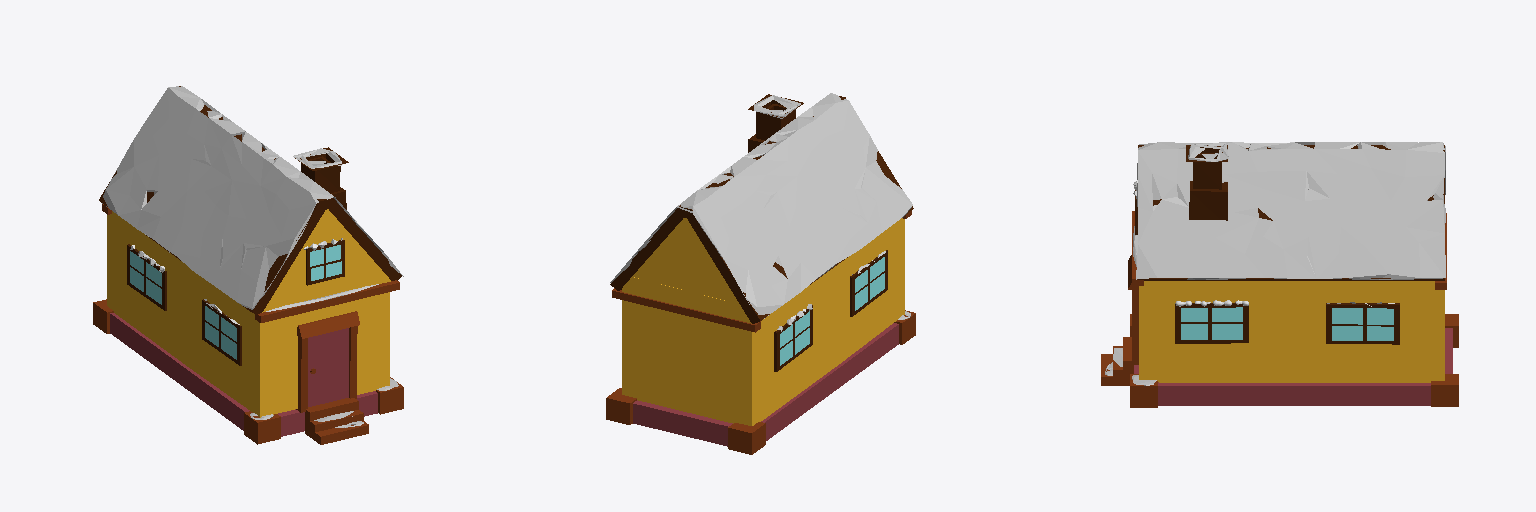
3 renders of one model, left to right at view 1: azimuth 30°, elevation 25°; view 2: azimuth 150°, elevation 25°; view 3: azimuth 270°, elevation 25°, orthographic.
Parts seen in each view (by area): view 1: SnowBall.003, Cube, Cube.004, Cube.007, Cube.001, Cube.006, Plane.001, Plane.002, Plane.005, Cube.009, Cube.014, Cube.011 (+6 smaller); view 2: SnowBall.003, Cube, Cube.004, Cube.007, Cube.006, Plane.001, Plane.002, Cube.008, Cube.014, Cube.016, Cube.017; view 3: SnowBall.003, Cube, Cube.004, Plane.004, Plane.003, Cube.014, Cube.006, Cube.017, Cube.010, SnowBall.006, Cube.012.
Part boxes in pixels (x1,y1,x2,y2): SnowBall.003: (102,86,403,309); Cube: (107,211,389,417); Cube.004: (110,313,377,436); Cube.007: (262,209,390,312); Cube.001: (308,328,348,406); Cube.006: (99,86,401,314); Plane.001: (202,299,241,365); Plane.002: (127,244,166,310); Plane.005: (306,240,344,285); Cube.009: (255,280,399,322); Cube.014: (295,147,348,209); Cube.011: (297,311,359,338); SnowBall.003: (610,93,912,318); Cube: (622,218,904,425); Cube.004: (633,323,898,446); Cube.007: (632,218,738,303); Cube.006: (610,96,913,323); Plane.001: (850,250,887,316); Plane.002: (774,305,812,371); Cube.008: (612,288,760,332); Cube.014: (748,94,803,152); Cube.016: (728,422,765,454); Cube.017: (606,388,636,424); SnowBall.003: (1136,142,1445,279); Cube: (1139,281,1444,382); Cube.004: (1134,328,1452,405); Plane.004: (1326,303,1399,344); Plane.003: (1175,303,1248,343); Cube.014: (1186,145,1227,220); Cube.006: (1138,145,1444,280); Cube.017: (1431,374,1458,406); Cube.010: (1130,374,1157,407); SnowBall.006: (1188,143,1228,182); Cube.012: (1132,290,1138,364).
Bounding box in the file's own units: 5.81 × 8.51 × 11.67.
Materials: 12 (5 with a texture image).